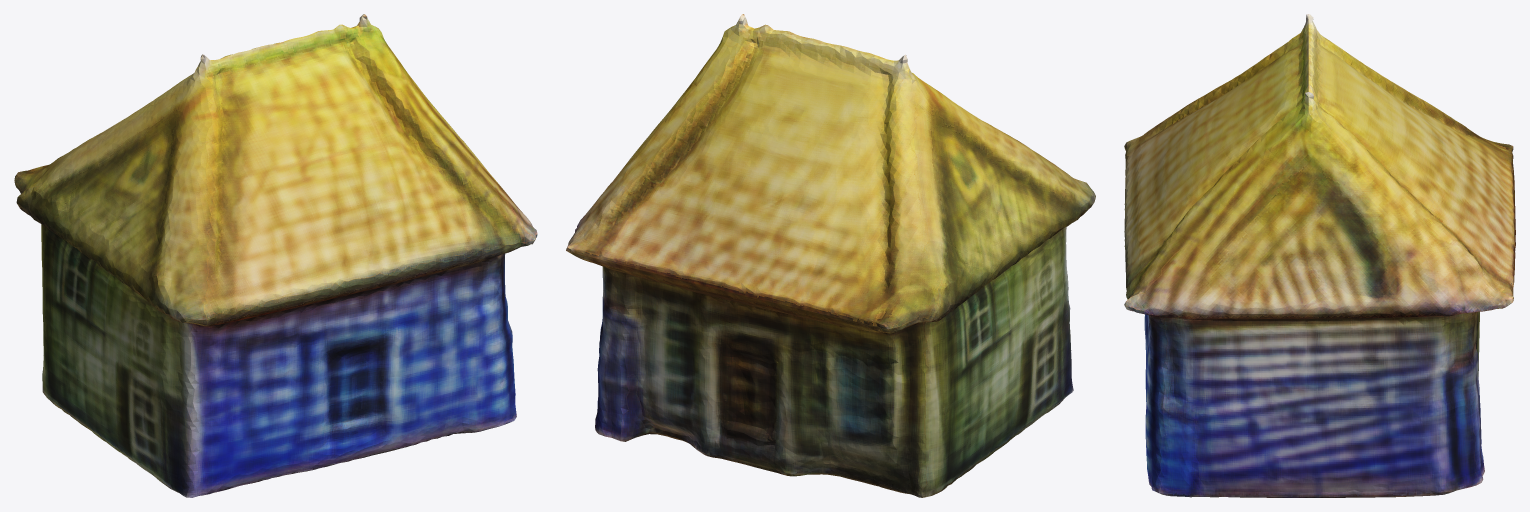
File: a house_12.glb
3 views of the same model, side by side, from view 1: azimuth 30°, elevation 25°; view 2: azimuth 150°, elevation 25°; view 3: azimuth 270°, elevation 25° (orthographic).
Size of the model in its own units: 0.9033 by 0.8984 by 0.8439.
Materials: 1 (1 with a texture image).
